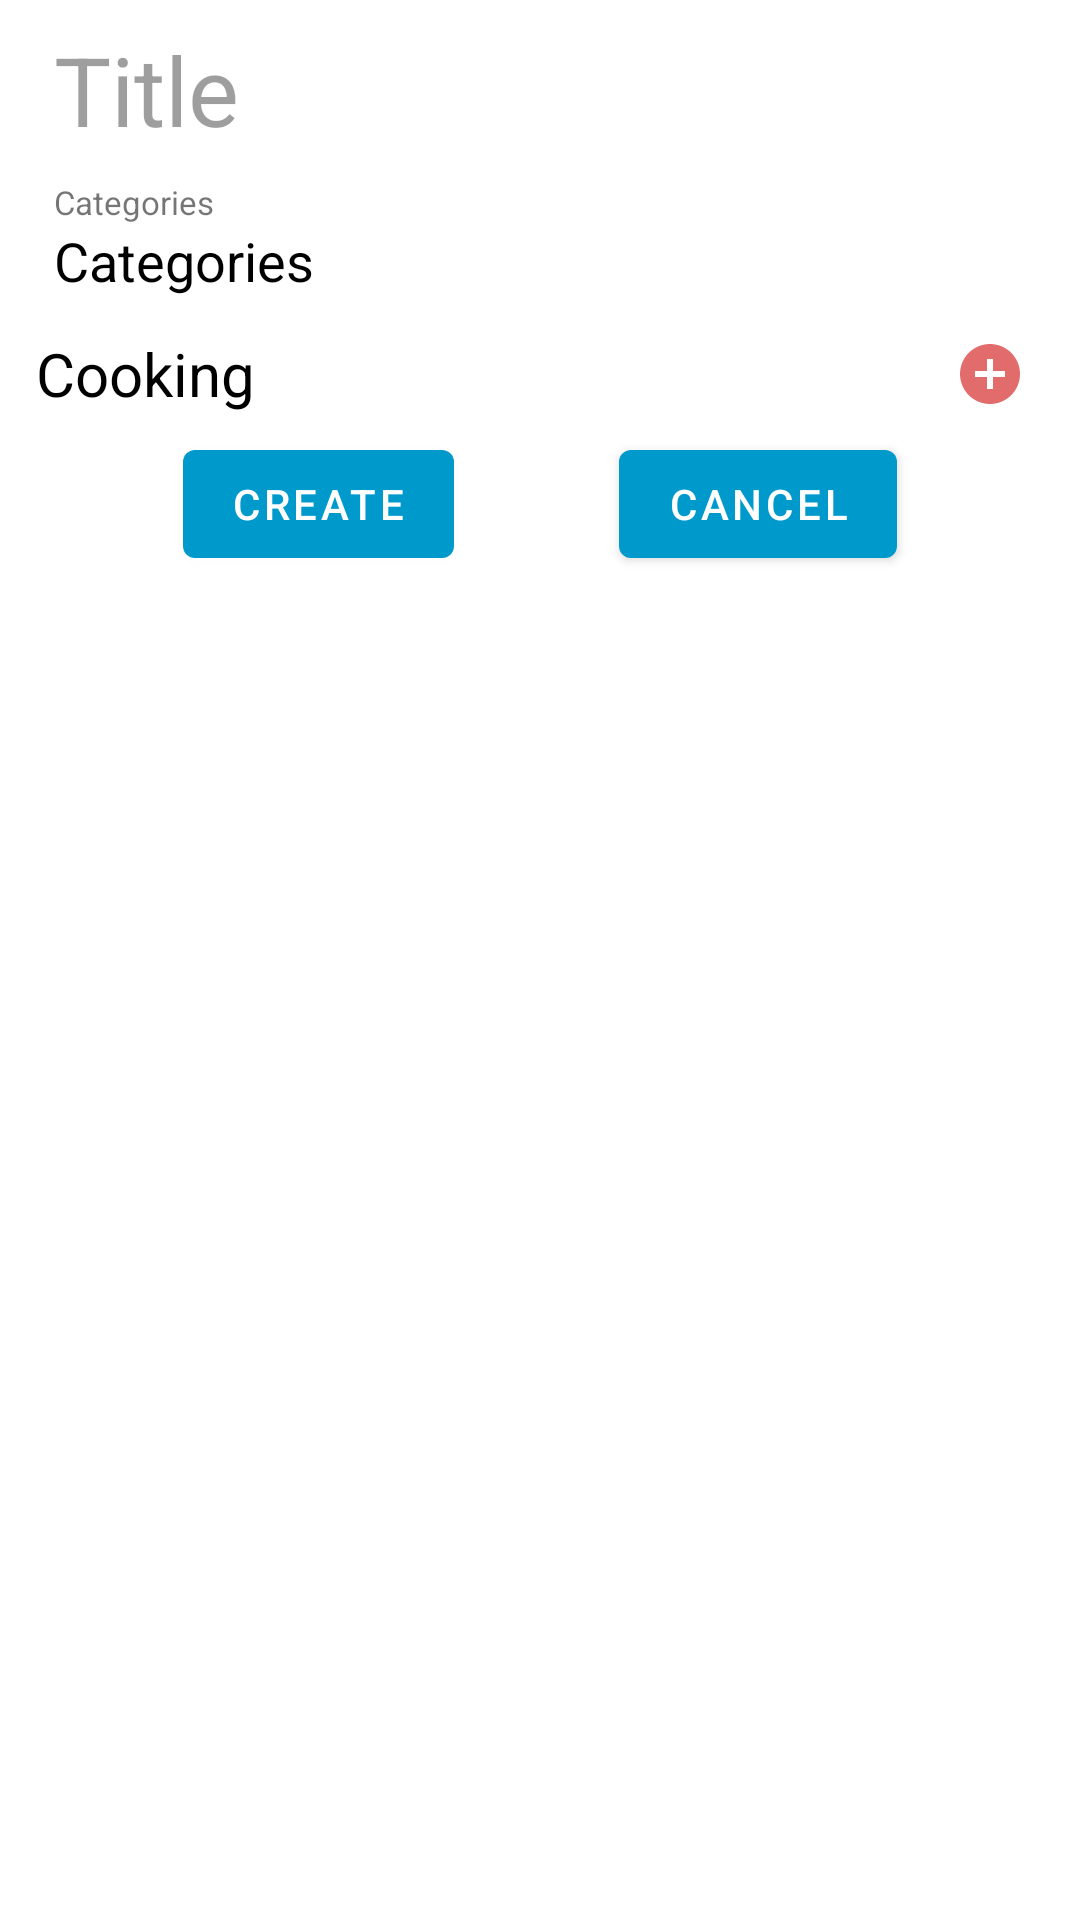

Icons on this 1080px×1920px Android screen, each with its box as [x1=x1, y1=y1, x2=x2, y2=y2]:
Add stage: [x1=960, y1=344, x2=1020, y2=404]
